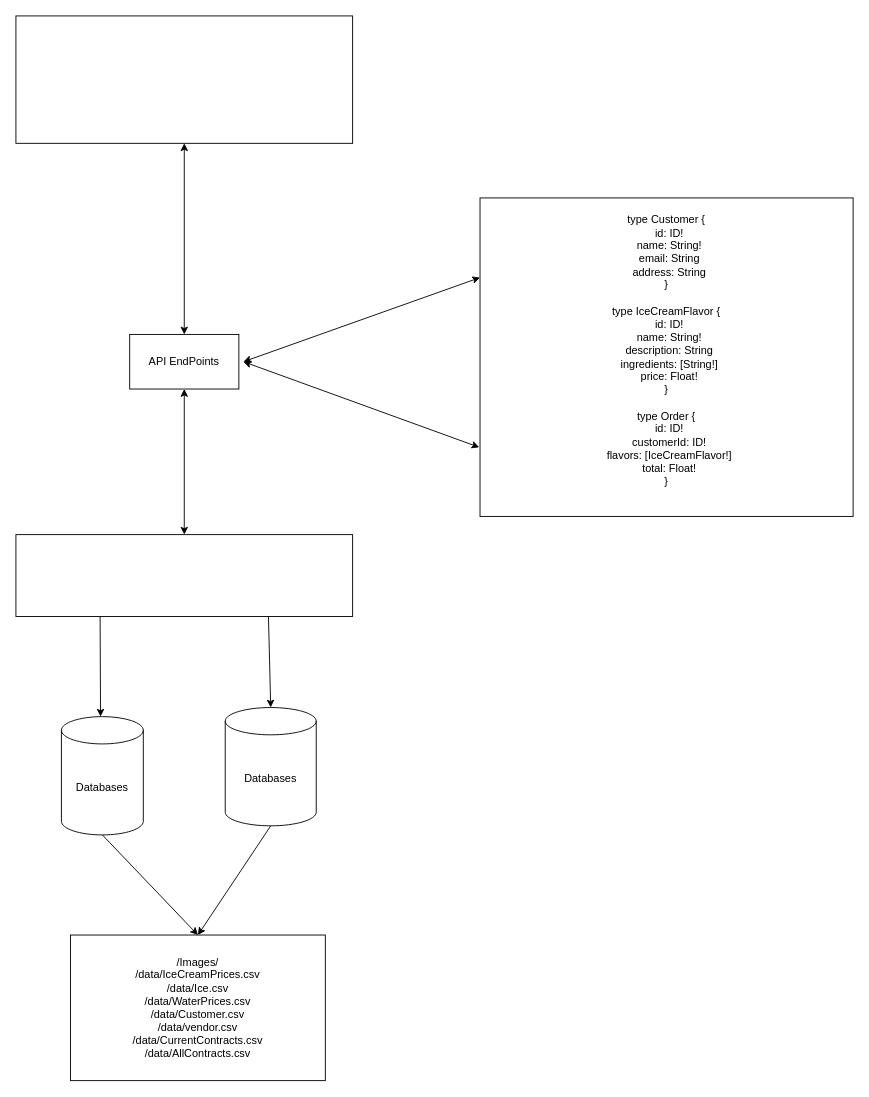
This 869x1097 diagram has some shape labels left out. The centre of each missing label's shape, as x and y in pixels:
Backend: the point at 184,575
Front-End: the point at 184,79
